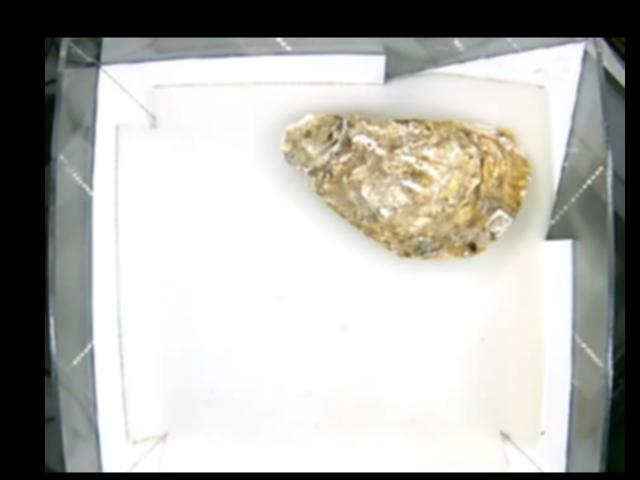Shell: (280, 112, 530, 261)
